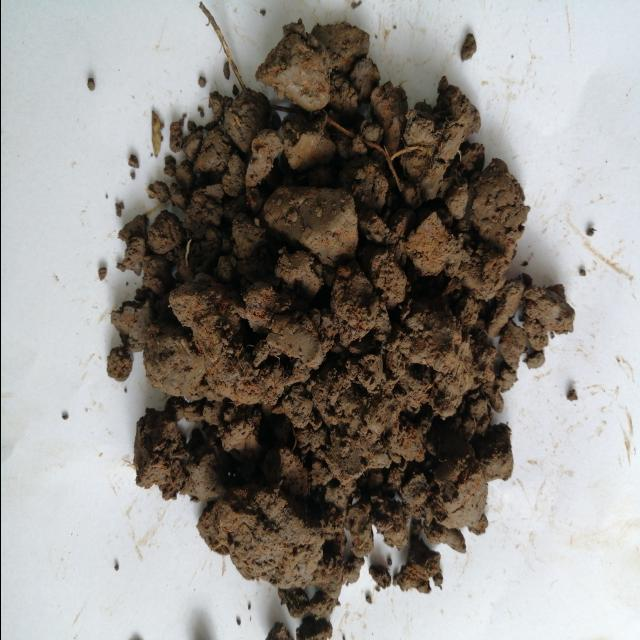soil: (152, 71, 506, 573)
